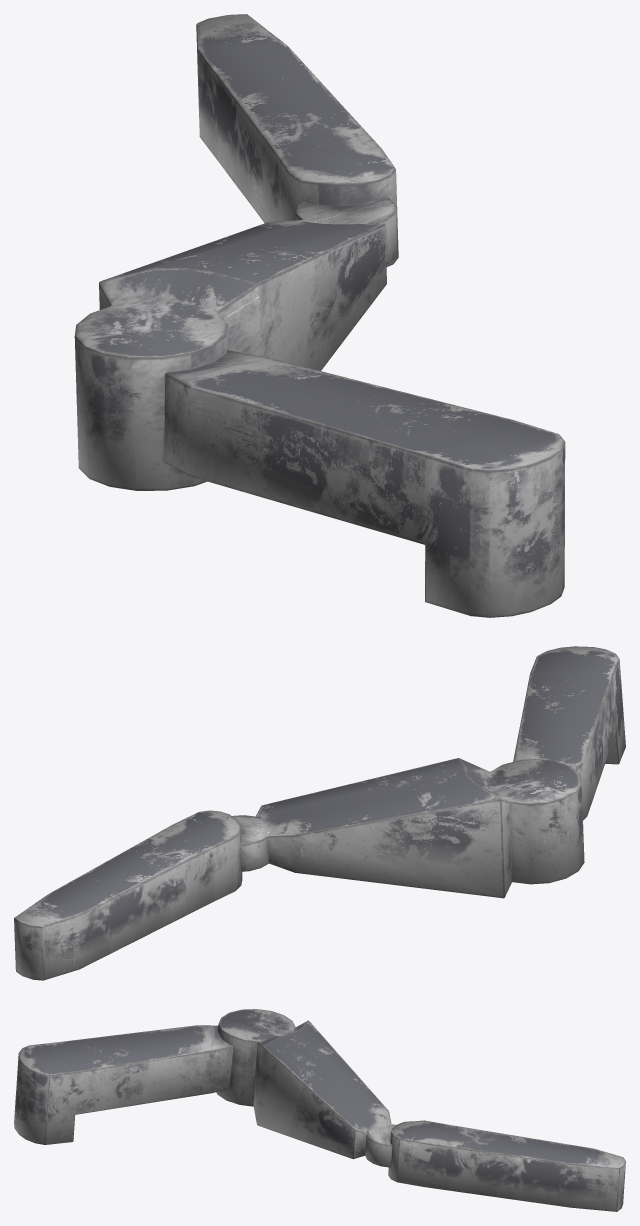
The model's file is bot_part_03.gltf.
The picture shows the model from 3 angles, top to bottom: view 1: azimuth 30°, elevation 25°; view 2: azimuth 150°, elevation 25°; view 3: azimuth 270°, elevation 25°; orthographic projection. The views are drawn at different scales.
Parts seen in each view (by area): view 1: bot_part_03; view 2: bot_part_03; view 3: bot_part_03.
Part boxes in pixels (<box>): bot_part_03: <box>74,14,565,617</box>; bot_part_03: <box>14,646,625,980</box>; bot_part_03: <box>14,1009,625,1211</box>.
Bounding box in the file's own units: 0.6821 × 0.2186 × 1.37.
1 material, 1 textured.
